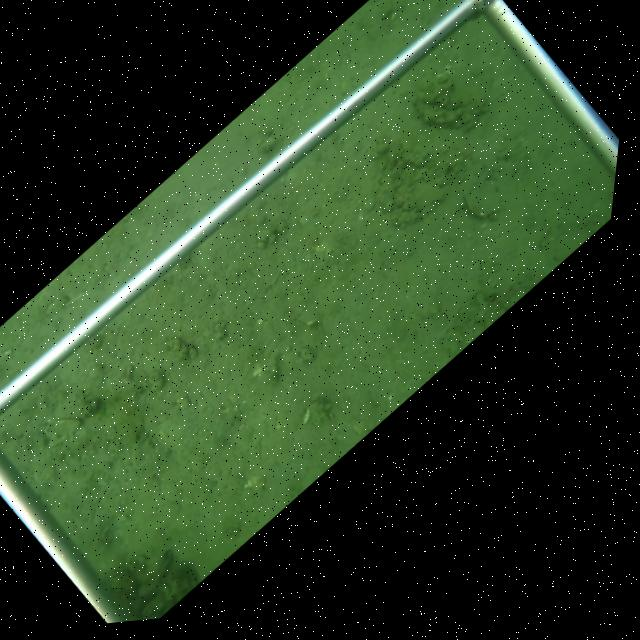Oyster-Indeterminate: (461, 171, 506, 219)
